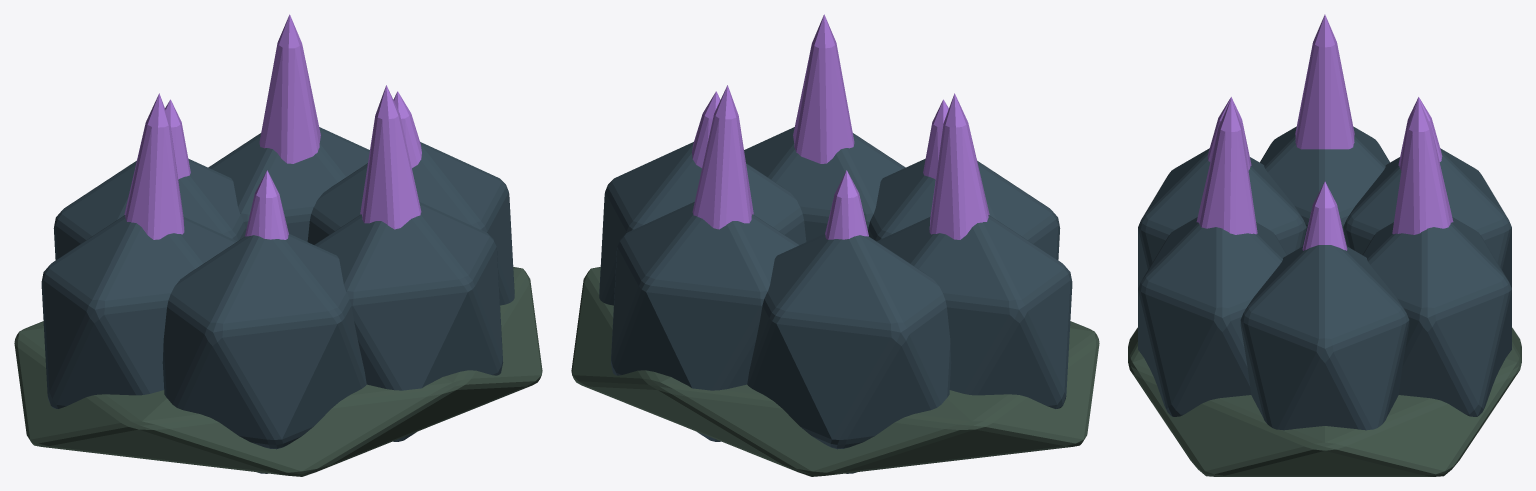
The model's file is aether_geode.glb.
3 views of the same model, side by side, from view 1: azimuth 30°, elevation 25°; view 2: azimuth 150°, elevation 25°; view 3: azimuth 270°, elevation 25° (orthographic). The views are drawn at different scales.
Parts seen in each view (by area): view 1: FracturedOre.010, RockBed.001, FracturedOre.011, FracturedOre.009, FracturedOre.006, FracturedOre.007, FracturedOre.008, AetherPrism.001, AetherPrism.003, AetherPrism.005, AetherPrism.004, AetherPrism.002 (+1 smaller); view 2: FracturedOre.008, RockBed.001, FracturedOre.007, FracturedOre.009, FracturedOre.006, FracturedOre.011, FracturedOre.010, AetherPrism.005, AetherPrism.003, AetherPrism.001, AetherPrism.002, AetherPrism.004 (+1 smaller); view 3: FracturedOre.006, RockBed.001, FracturedOre.007, FracturedOre.011, FracturedOre.010, FracturedOre.008, FracturedOre.009, AetherPrism.003, AetherPrism.001, AetherPrism.005, AetherPrism, AetherPrism.002 (+1 smaller).
Part boxes in pixels (box(x1,y1,x2,y2)): FracturedOre.010: box(162, 234, 366, 473); RockBed.001: box(14, 267, 542, 476); FracturedOre.011: box(314, 202, 503, 441); FracturedOre.009: box(41, 215, 236, 408); FracturedOre.006: box(307, 142, 514, 305); FracturedOre.007: box(208, 127, 369, 241); FracturedOre.008: box(53, 158, 245, 259); AetherPrism.001: box(259, 14, 320, 163); AetherPrism.003: box(124, 93, 184, 239); AetherPrism.005: box(360, 85, 421, 229); AetherPrism.004: box(245, 170, 288, 239); AetherPrism.002: box(165, 99, 190, 179); FracturedOre.008: box(747, 234, 951, 473); RockBed.001: box(571, 267, 1099, 476); FracturedOre.007: box(610, 202, 799, 441); FracturedOre.009: box(877, 215, 1072, 408); FracturedOre.006: box(599, 142, 806, 305); FracturedOre.011: box(744, 127, 905, 241); FracturedOre.010: box(868, 158, 1060, 259); AetherPrism.005: box(793, 14, 854, 163); AetherPrism.003: box(929, 93, 989, 239); AetherPrism.001: box(692, 85, 753, 229); AetherPrism.002: box(825, 170, 868, 239); AetherPrism.004: box(923, 99, 948, 179); FracturedOre.006: box(1240, 245, 1409, 430); RockBed.001: box(1128, 327, 1521, 476); FracturedOre.007: box(1362, 217, 1511, 416); FracturedOre.011: box(1138, 217, 1287, 416); FracturedOre.010: box(1138, 148, 1306, 288); FracturedOre.008: box(1343, 148, 1511, 288); FracturedOre.009: box(1260, 126, 1389, 230); AetherPrism.003: box(1295, 14, 1354, 149); AetherPrism.001: box(1392, 99, 1453, 234); AetherPrism.005: box(1196, 99, 1257, 234); AetherPrism: box(1302, 181, 1347, 250); AetherPrism.002: box(1398, 97, 1442, 170).
Bounding box in the file's own units: 2.02 × 1.38 × 1.43.
